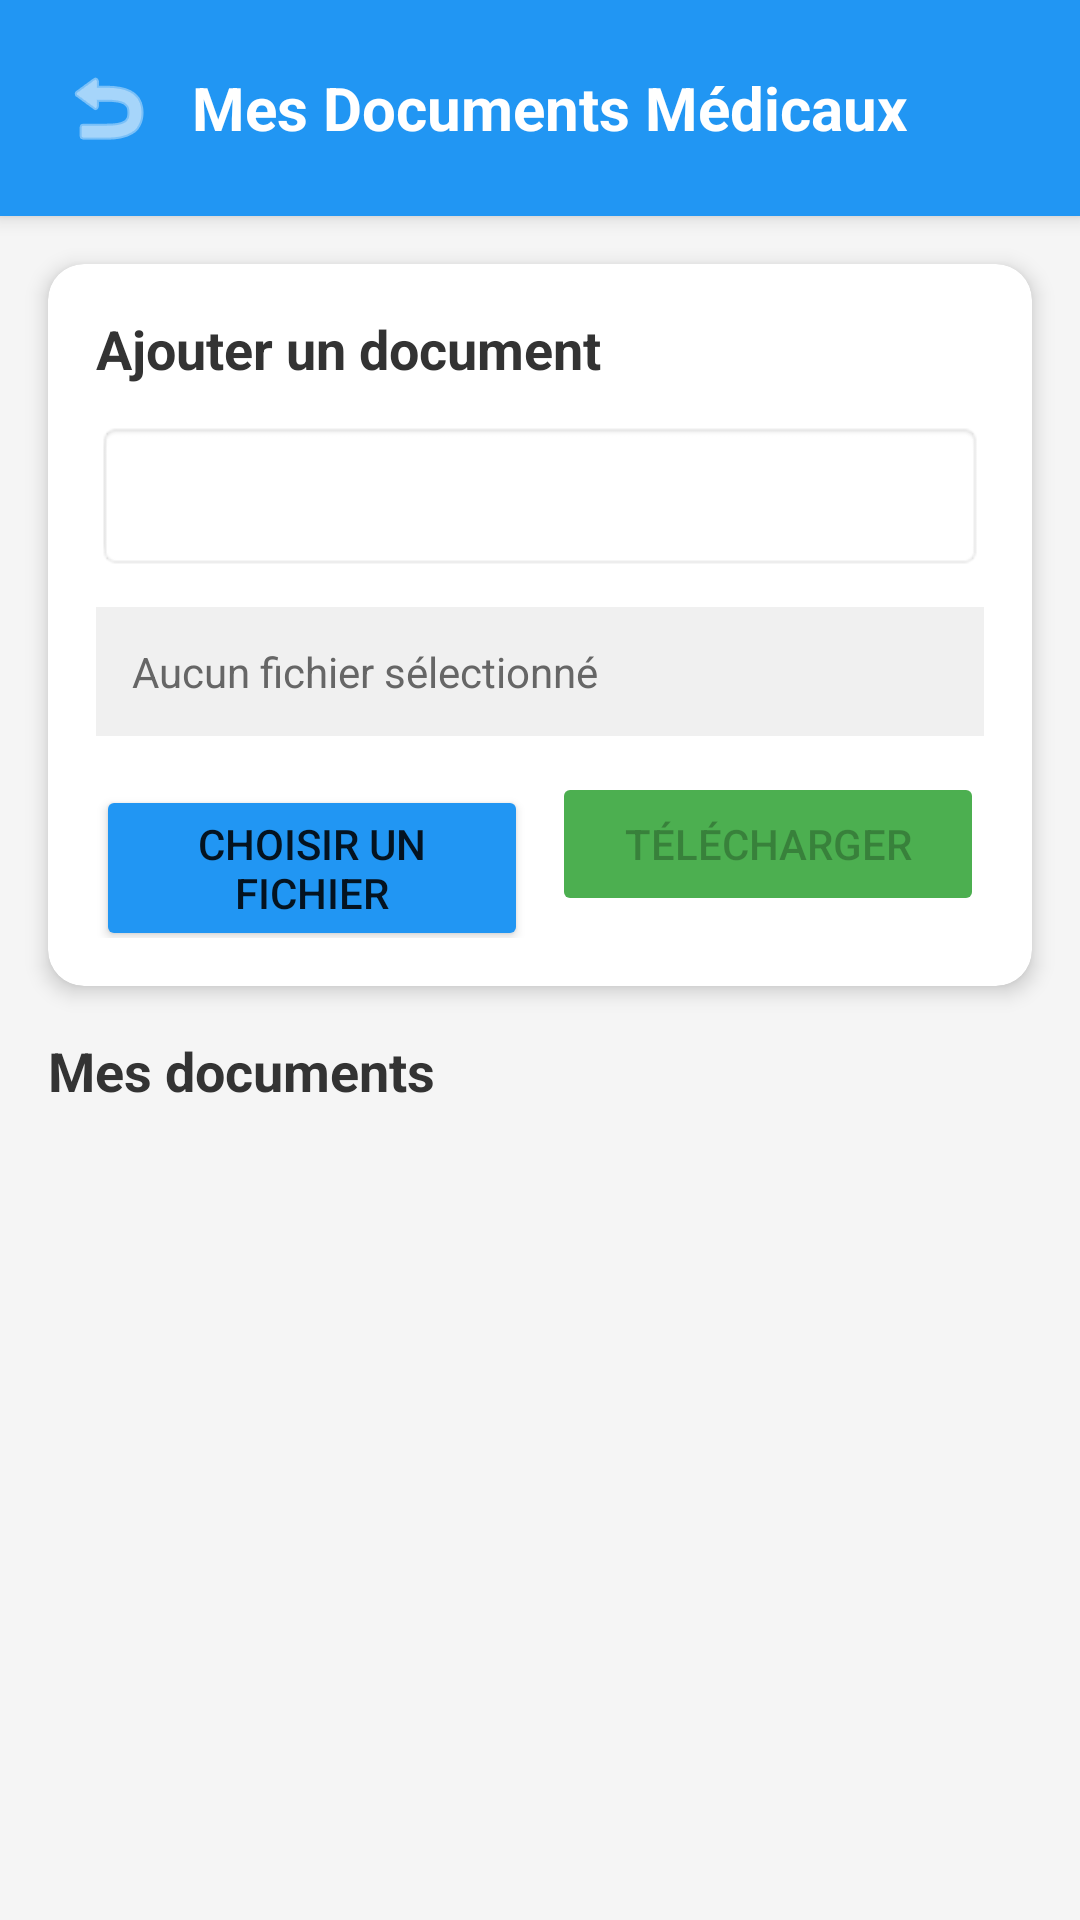

Named icons in this screenshot (1080*1920) and their bounding boxes, [x1, y1, x2, y2]:
Retour: [75, 77, 144, 140]
